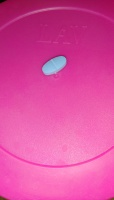Majezik: (41, 54, 67, 76)
